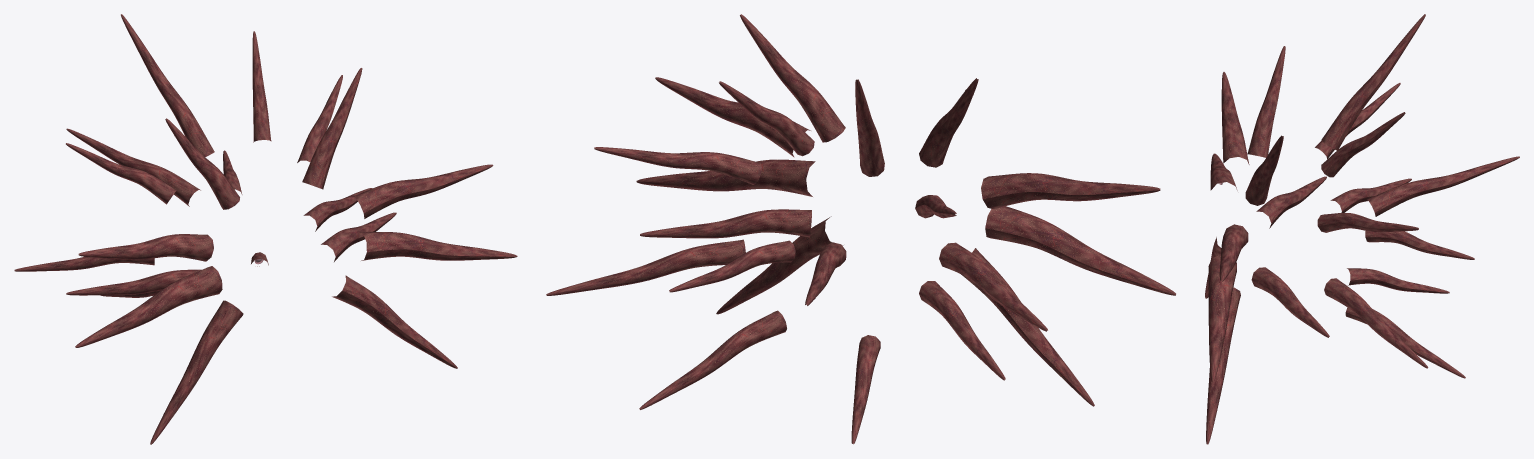
File: w01_tentacles.glb
The picture shows the model from 3 angles, left to right: view 1: azimuth 30°, elevation 25°; view 2: azimuth 150°, elevation 25°; view 3: azimuth 270°, elevation 25°; orthographic projection. The views are drawn at different scales.
Parts seen in each view (by area): view 1: arm-2-mesh, arm-3-mesh, arm-4-mesh, arm-0-mesh, arm-1-mesh, arm-5-mesh, arm-12-mesh, arm-7-mesh, arm-18-mesh, arm-6-mesh, arm-8-mesh, arm-10-mesh (+5 smaller); view 2: arm-2-mesh, arm-0-mesh, arm-3-mesh, arm-15-mesh, arm-9-mesh, arm-7-mesh, arm-17-mesh, arm-11-mesh, arm-8-mesh, arm-5-mesh, arm-4-mesh, arm-1-mesh (+8 smaller); view 3: arm-3-mesh, arm-12-mesh, arm-18-mesh, arm-15-mesh, arm-6-mesh, arm-5-mesh, arm-9-mesh, arm-0-mesh, arm-11-mesh, arm-13-mesh, arm-16-mesh, arm-7-mesh (+7 smaller).
Part boxes in pixels (x1,y1,x2,y2): arm-2-mesh: (75, 266, 222, 347); arm-3-mesh: (359, 231, 517, 260); arm-4-mesh: (150, 300, 243, 444); arm-0-mesh: (78, 234, 213, 261); arm-1-mesh: (353, 164, 493, 218); arm-5-mesh: (332, 275, 457, 368); arm-12-mesh: (121, 14, 214, 157); arm-7-mesh: (302, 68, 362, 189); arm-18-mesh: (66, 128, 200, 206); arm-6-mesh: (165, 118, 239, 209); arm-8-mesh: (66, 269, 201, 295); arm-10-mesh: (66, 143, 176, 204); arm-2-mesh: (985, 206, 1175, 295); arm-0-mesh: (981, 173, 1160, 209); arm-3-mesh: (636, 159, 815, 196); arm-15-mesh: (546, 239, 745, 295); arm-9-mesh: (640, 209, 811, 238); arm-7-mesh: (740, 14, 845, 142); arm-17-mesh: (639, 310, 786, 409); arm-11-mesh: (594, 147, 761, 184); arm-8-mesh: (939, 242, 1047, 331); arm-5-mesh: (716, 216, 843, 314); arm-4-mesh: (961, 248, 1094, 406); arm-1-mesh: (655, 77, 810, 157); arm-3-mesh: (1208, 254, 1236, 381); arm-12-mesh: (1321, 14, 1425, 150); arm-18-mesh: (1367, 156, 1519, 216); arm-15-mesh: (1324, 278, 1428, 368); arm-6-mesh: (1247, 46, 1285, 157); arm-5-mesh: (1206, 287, 1240, 444); arm-9-mesh: (1251, 267, 1329, 337); arm-0-mesh: (1221, 72, 1249, 164); arm-11-mesh: (1317, 213, 1418, 232); arm-13-mesh: (1321, 112, 1405, 177); arm-16-mesh: (1347, 268, 1449, 293); arm-7-mesh: (1245, 135, 1283, 205).
Bounding box in the file's own units: 8.55 × 6.1 × 5.37.
3 materials, 1 textured.
